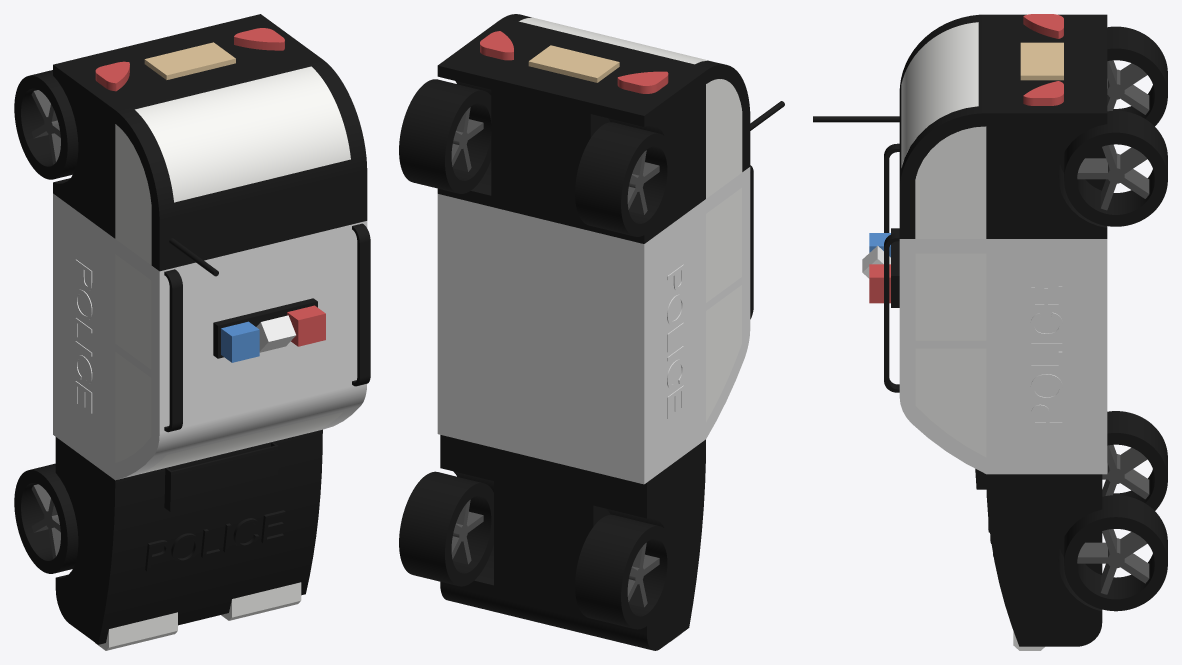
Rendered from New Police car.fbx.
The picture shows the model from 3 angles, left to right: view 1: azimuth 30°, elevation 25°; view 2: azimuth 150°, elevation 25°; view 3: azimuth 270°, elevation 25°; orthographic projection. The views are drawn at different scales.
Visible parts, largest first — view 1: Body4, Body18, Body3, Body33, Body2, Body38, Body11, Body23, Body20, Body14, Body15, Body5 (+14 smaller); view 2: Body1, Body18, Body4, Body2, Body11, Body23, Body10, Body21, Body20, Body14, Body15, Body3 (+9 smaller); view 3: Body18, Body2, Body4, Body19, Body10, Body33, Body21, Body13, Body12, Body3, Body1, Body11 (+14 smaller).
Part boxes in pixels (x1,y1,x2,y2): Body4: (55,429,322,644); Body18: (53,14,367,271); Body3: (115,221,367,480); Body33: (135,66,350,202); Body2: (62,200,115,479); Body38: (164,442,278,511); Body11: (14,463,78,573); Body23: (14,70,78,179); Body20: (115,124,151,265); Body14: (115,254,151,369); Body15: (115,352,151,462); Body5: (140,412,342,473); Body1: (437,194,652,484); Body18: (437,14,750,243); Body4: (440,435,705,650); Body2: (653,199,705,477); Body11: (575,514,673,629); Body23: (575,122,673,236); Body10: (399,471,493,586); Body21: (399,79,491,193); Body20: (706,79,742,198); Body14: (706,188,741,302); Body15: (706,285,741,421); Body3: (706,167,750,438); Body18: (899,14,1107,238); Body2: (986,239,1089,474); Body4: (986,474,1102,646); Body19: (915,126,986,238); Body10: (1064,495,1167,611); Body33: (901,22,978,167); Body21: (1064,110,1167,226); Body13: (915,253,986,340); Body12: (915,348,986,457); Body3: (899,239,986,473); Body1: (1090,239,1107,474); Body11: (1107,411,1167,510).
Bounding box in the file's own units: 145 × 350 × 205.
